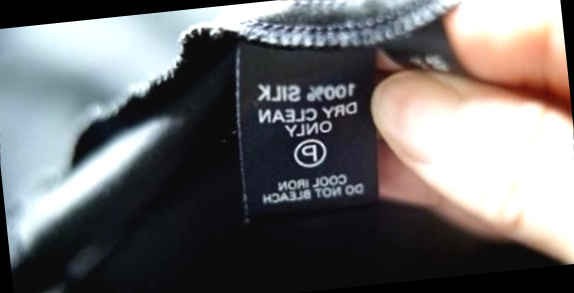dry_clean_any_solvent_except_trichloroethylene: (289, 134, 329, 170)
